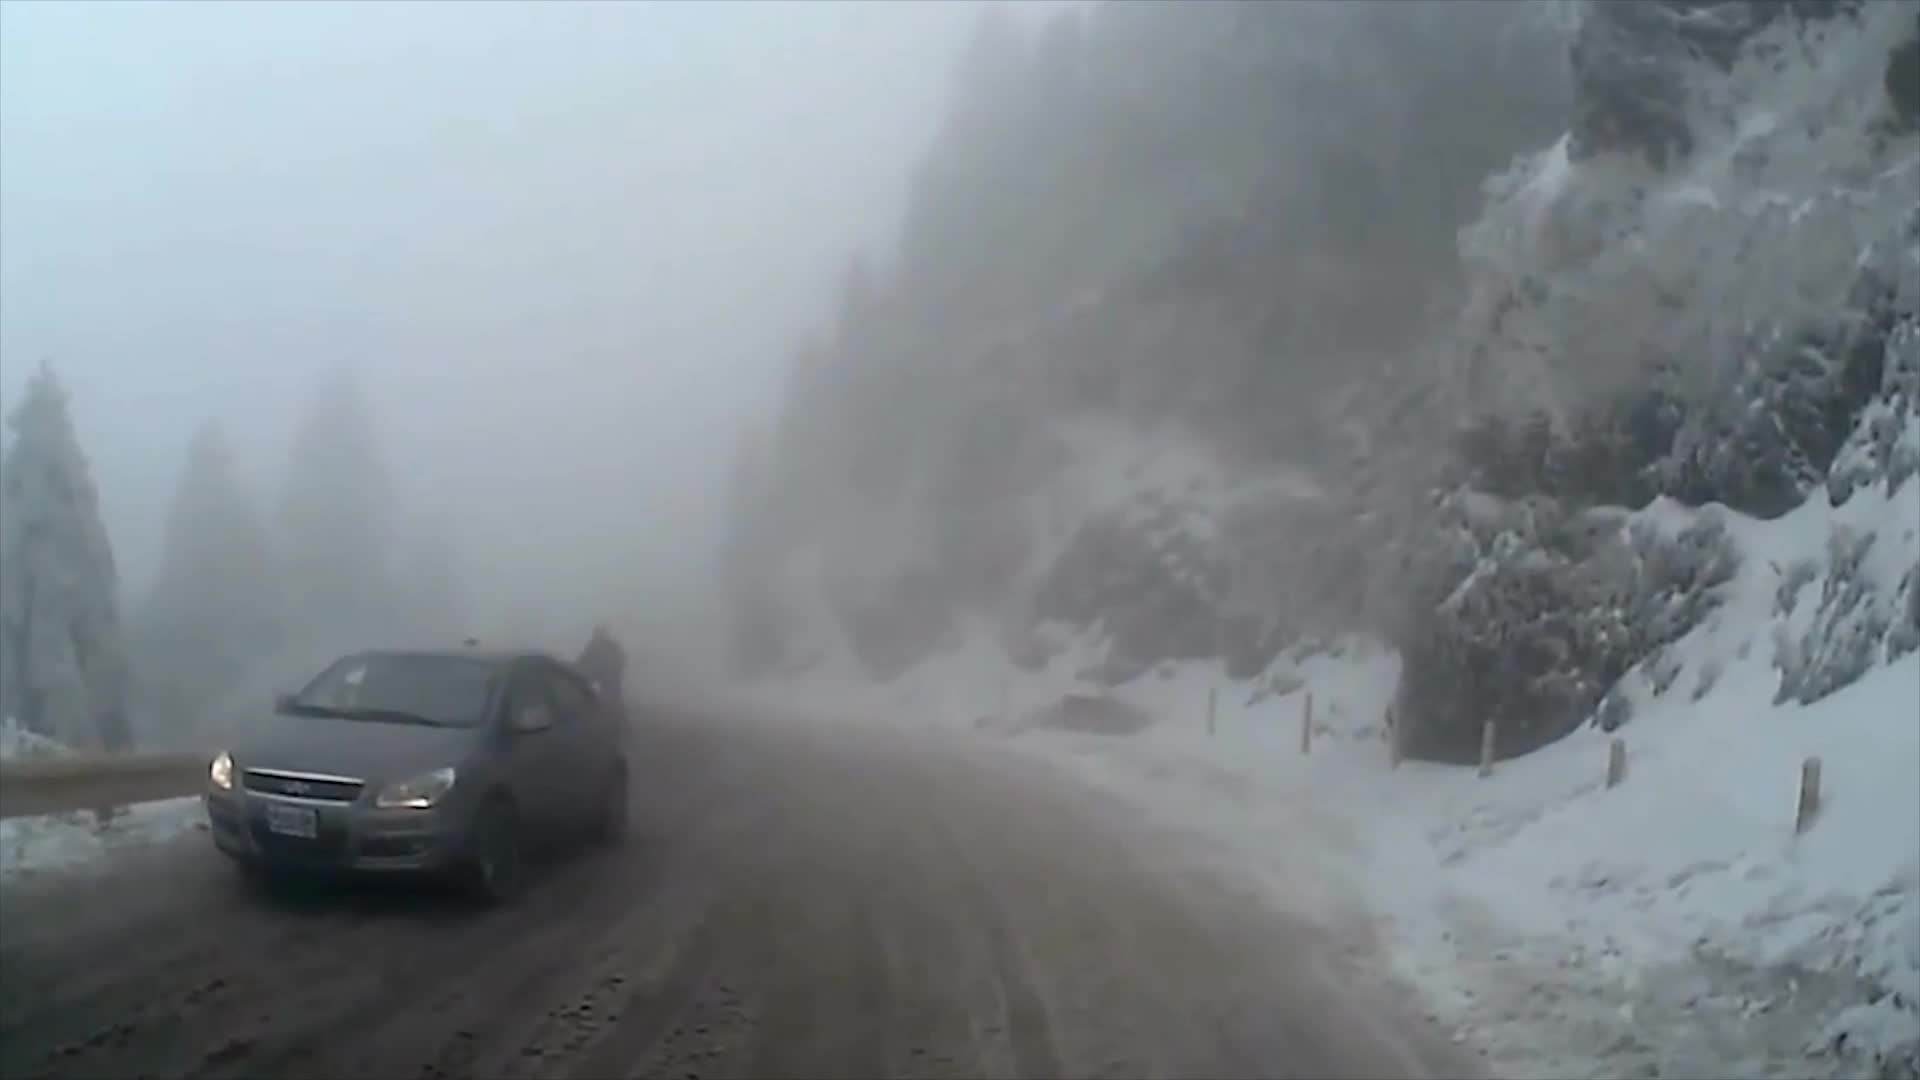vehicle: (203, 642, 632, 909)
